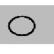no answer: (7, 14, 37, 37)
